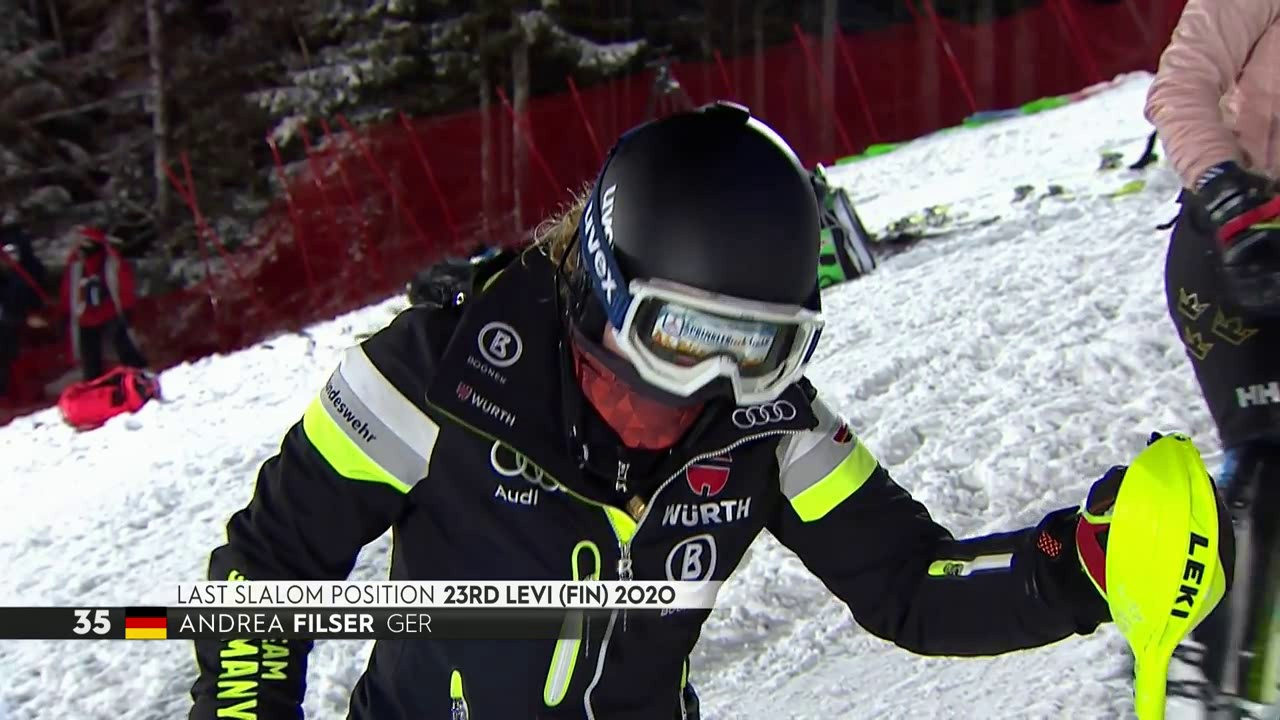audi: (723, 397, 807, 434)
